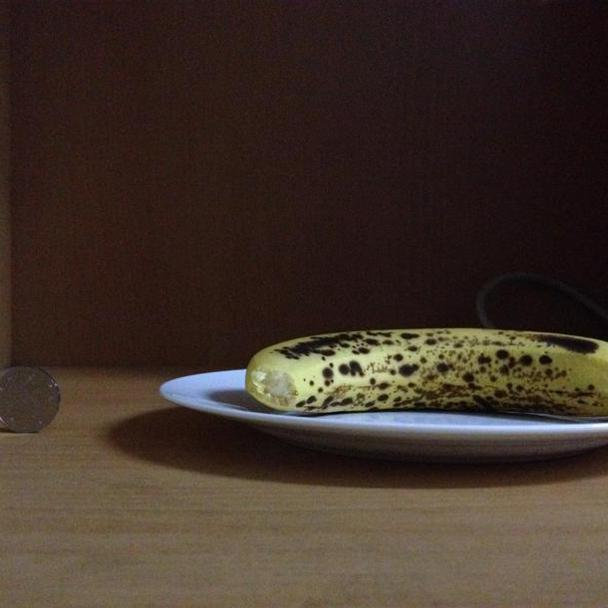banana: (240, 322, 608, 423)
